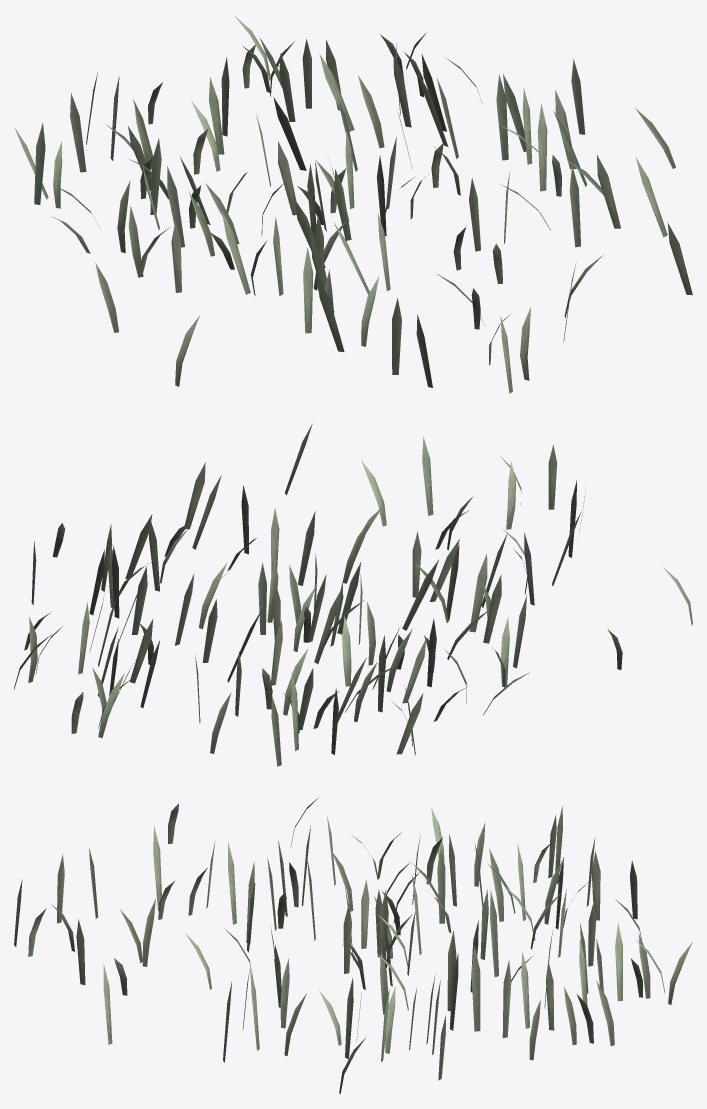
Rendered from Grass - Grass2 1-DiNoz1mR.glb.
3 views of the same model, one above another, from view 1: azimuth 30°, elevation 25°; view 2: azimuth 150°, elevation 25°; view 3: azimuth 270°, elevation 25° (orthographic). The views are drawn at different scales.
Visible parts, largest first — view 1: Grass2_1_LOD0; view 2: Grass2_1_LOD0; view 3: Grass2_1_LOD0.
Part boxes in pixels (bbox=[...]): Grass2_1_LOD0: bbox=[14, 15, 692, 393]; Grass2_1_LOD0: bbox=[14, 423, 692, 766]; Grass2_1_LOD0: bbox=[14, 797, 692, 1094].
Size of the model in its own units: 1.76 by 0.2409 by 2.01.
1 material, 1 textured.
